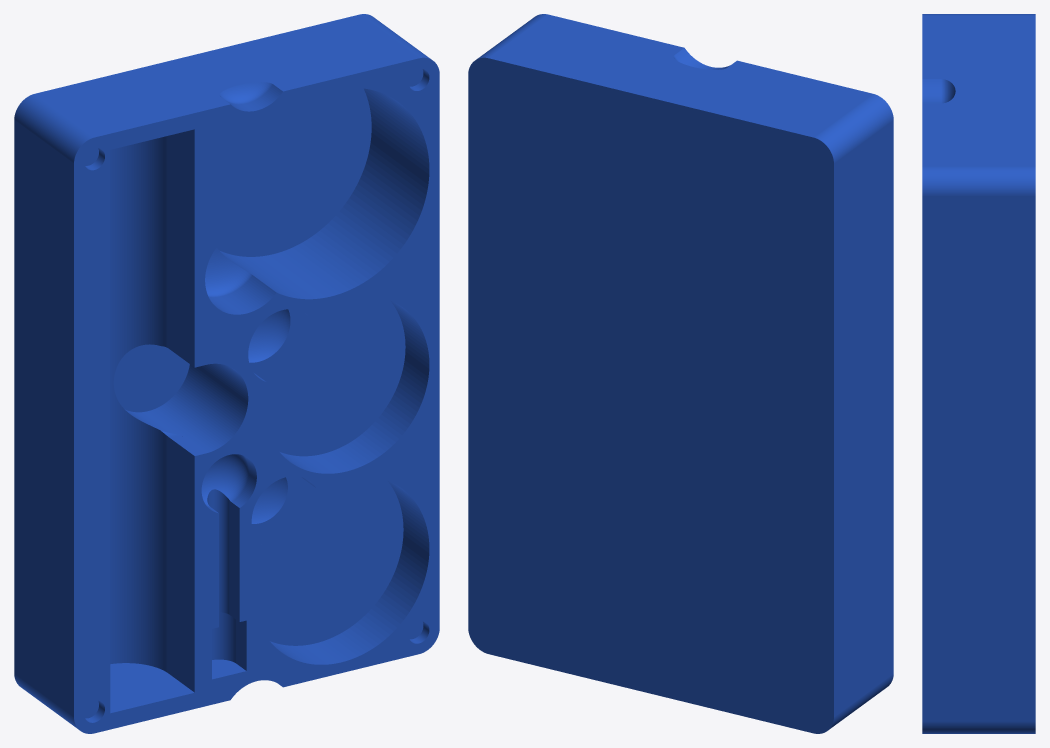
The model's file is SolderBox.glb.
3 renders of one model, left to right at view 1: azimuth 30°, elevation 25°; view 2: azimuth 150°, elevation 25°; view 3: azimuth 270°, elevation 25°, orthographic. The views are drawn at different scales.
Visible parts, largest first — view 1: empty_2; view 2: empty_2; view 3: empty_2.
Boxes of the visible parts, bbox=[...] form: empty_2: bbox=[14, 14, 439, 733]; empty_2: bbox=[468, 14, 893, 733]; empty_2: bbox=[922, 14, 1035, 733].
Size of the model in its own units: 1.59 by 2.47 by 0.45.
